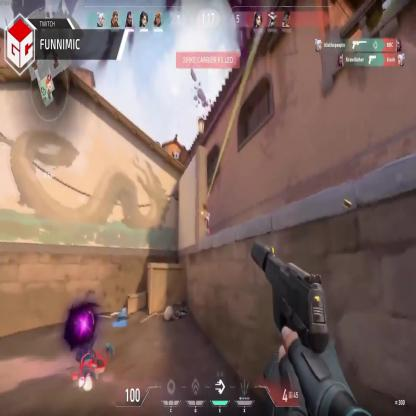enemy: (202, 206, 210, 241)
enemy_head: (203, 207, 208, 214)
